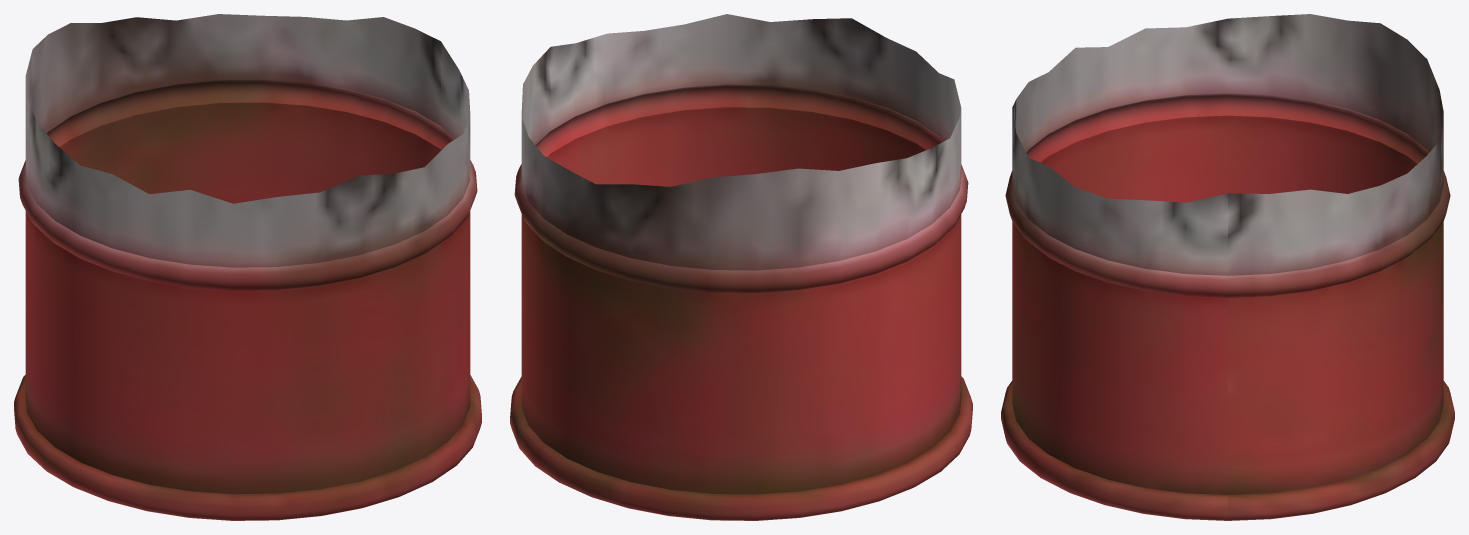
File: hazard-drum-torn--1.gltf
3 renders of one model, left to right at view 1: azimuth 30°, elevation 25°; view 2: azimuth 150°, elevation 25°; view 3: azimuth 270°, elevation 25°, orthographic. The views are drawn at different scales.
Parts seen in each view (by area): view 1: Cylinder.063; view 2: Cylinder.063; view 3: Cylinder.063.
Part boxes in pixels (left/top/right/bottom): Cylinder.063: left=14, top=14, right=481, bottom=520; Cylinder.063: left=510, top=14, right=972, bottom=520; Cylinder.063: left=1001, top=14, right=1454, bottom=520.
Bounding box in the file's own units: 0.6053 × 0.5 × 0.6053.
Materials: 1 (1 with a texture image).
